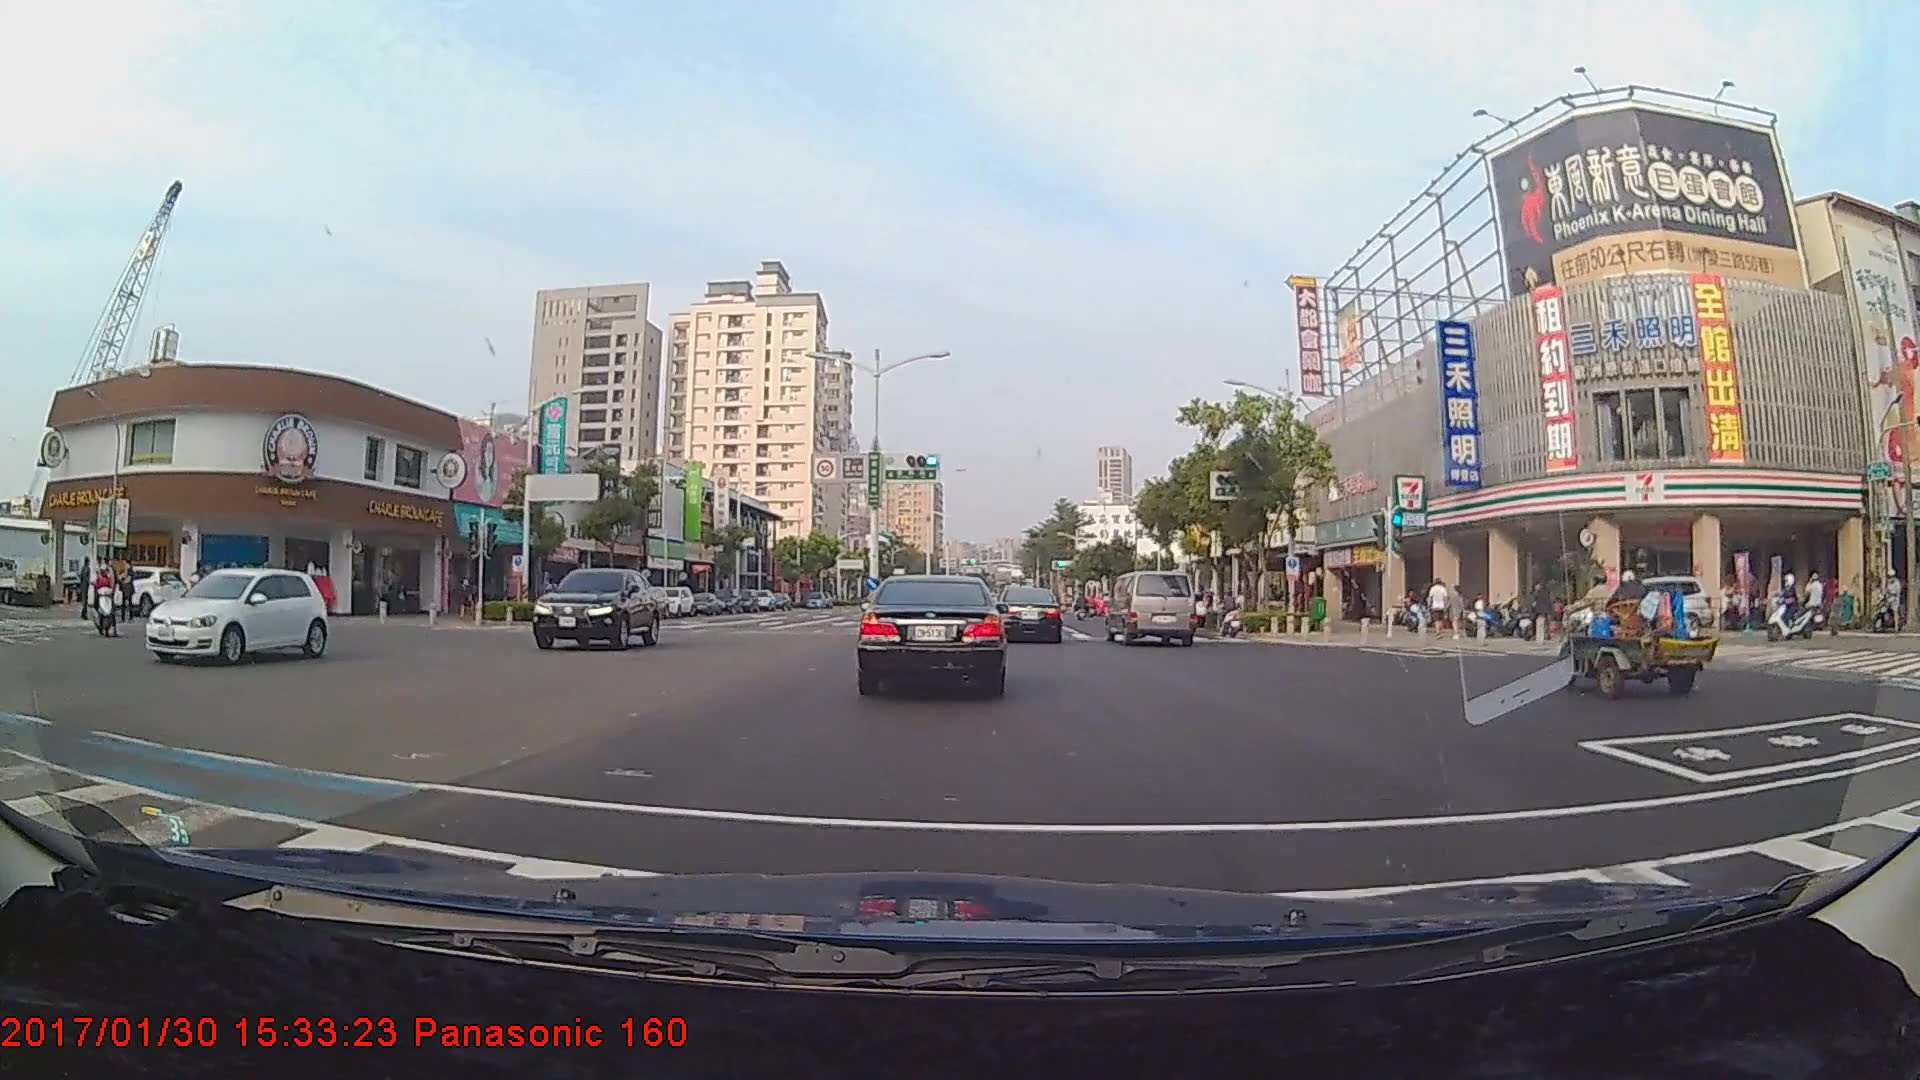pedestrian: (1427, 578, 1450, 641), (457, 573, 478, 623)
rider: (1762, 570, 1823, 647), (85, 559, 128, 637), (1215, 588, 1253, 645)
vehicle: (141, 563, 328, 667), (859, 570, 1007, 696), (534, 566, 661, 651), (1561, 574, 1711, 642), (1107, 569, 1195, 647), (993, 585, 1063, 644)
